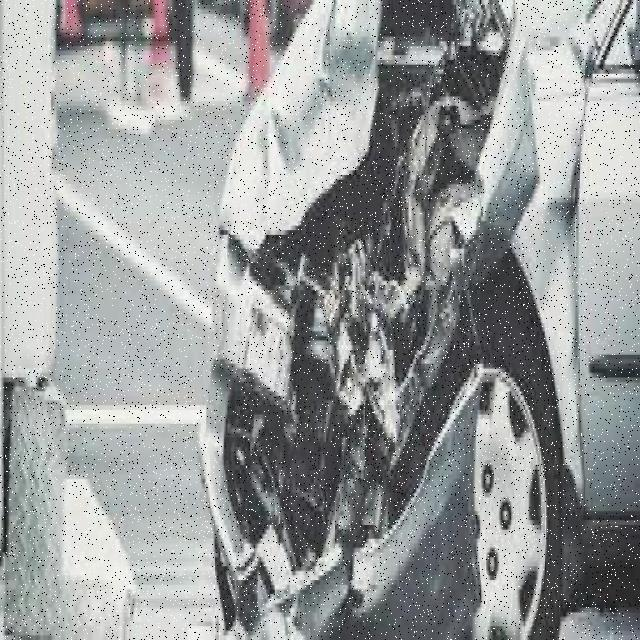car damage: (199, 3, 580, 636)
